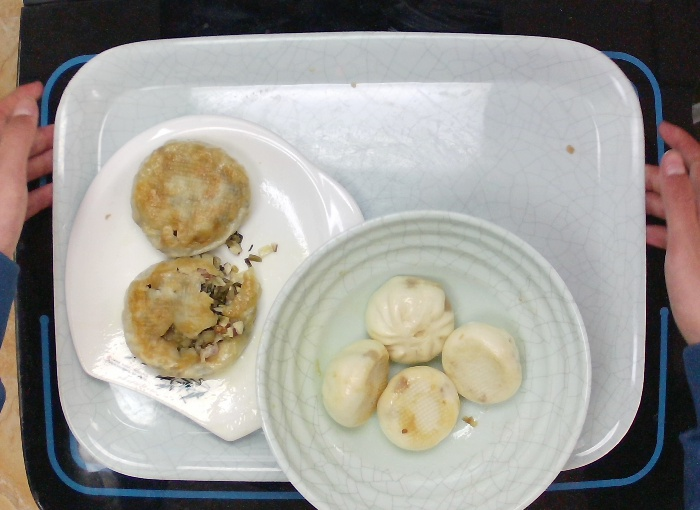JYsf-Da_Tang_Wan: (252, 206, 593, 510)
JYsf-Mian_Pan: (60, 110, 368, 445)
